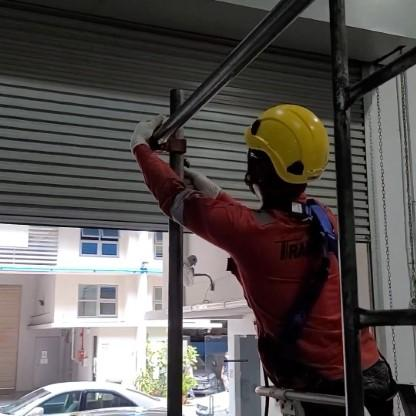helmet: (233, 94, 332, 212)
